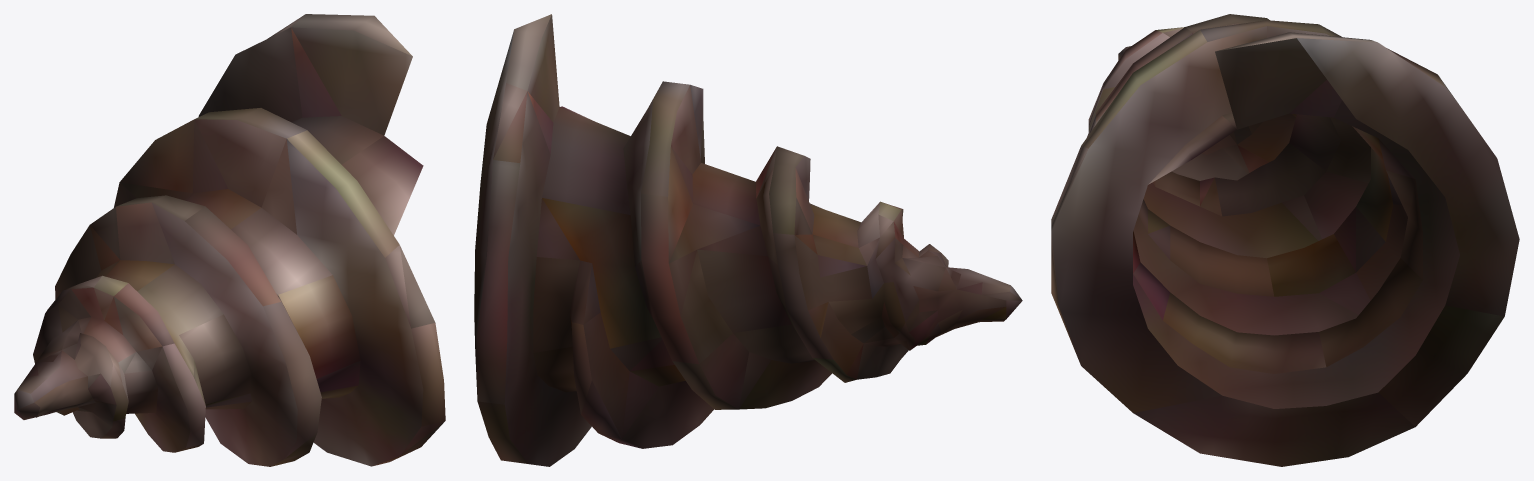
File: drill_head.glb
The picture shows the model from 3 angles, left to right: view 1: azimuth 30°, elevation 25°; view 2: azimuth 150°, elevation 25°; view 3: azimuth 270°, elevation 25°; orthographic projection. The views are drawn at different scales.
Parts seen in each view (by area): view 1: drill_head; view 2: drill_head; view 3: drill_head.
Boxes of the visible parts, x1=… form: drill_head: x1=14, y1=14, x2=445, y2=466; drill_head: x1=474, y1=14, x2=1022, y2=466; drill_head: x1=1051, y1=14, x2=1519, y2=466.
Bounding box in the file's own units: 0.1384 × 0.1268 × 0.1211.
Materials: 1 (1 with a texture image).
